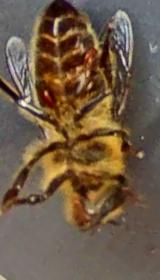varroa_mite: (34, 80, 60, 113), (78, 45, 108, 68)
